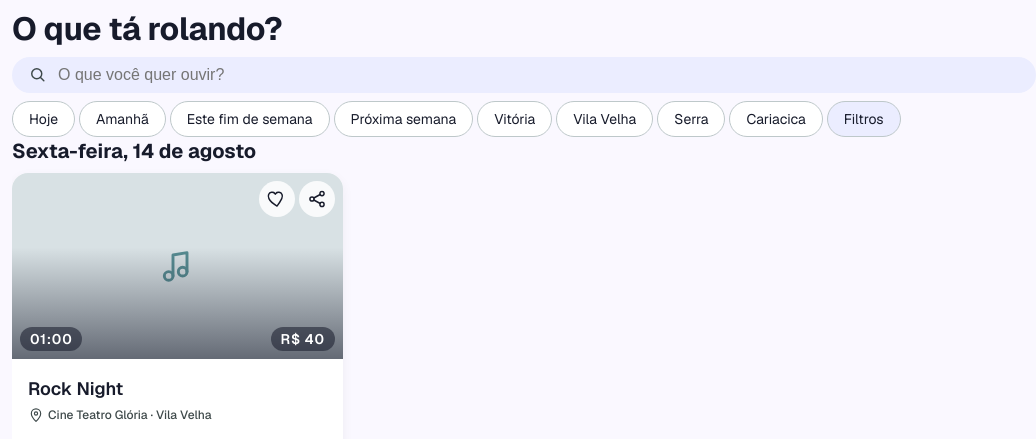
it: EventFeedPage › given a visitor when clearing filters then the unfiltered chronological feed returns
Expected: the heading "Rock Night" is shown, x1=28 y1=377 x2=123 y2=400
Click the button "Vitória". click: coordinates (515, 119)
box: x1=477 y1=101 x2=552 y2=137
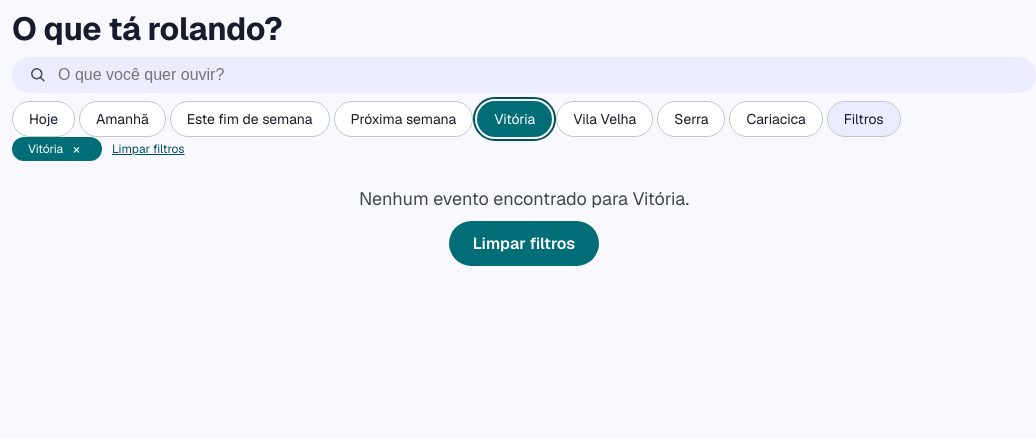
Result: the text "Nenhum evento encontrado para Vitória." is shown at x1=359 y1=185 x2=689 y2=213
Click the 1st button "Limpar filtros". click: coordinates (148, 149)
box: x1=106 y1=140 x2=191 y2=158
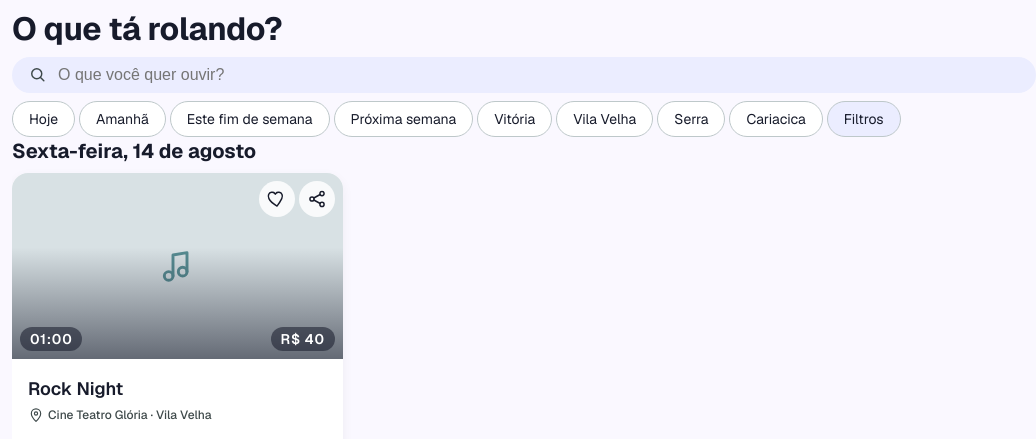
Result: the heading "Rock Night" is shown at x1=28 y1=377 x2=123 y2=400
